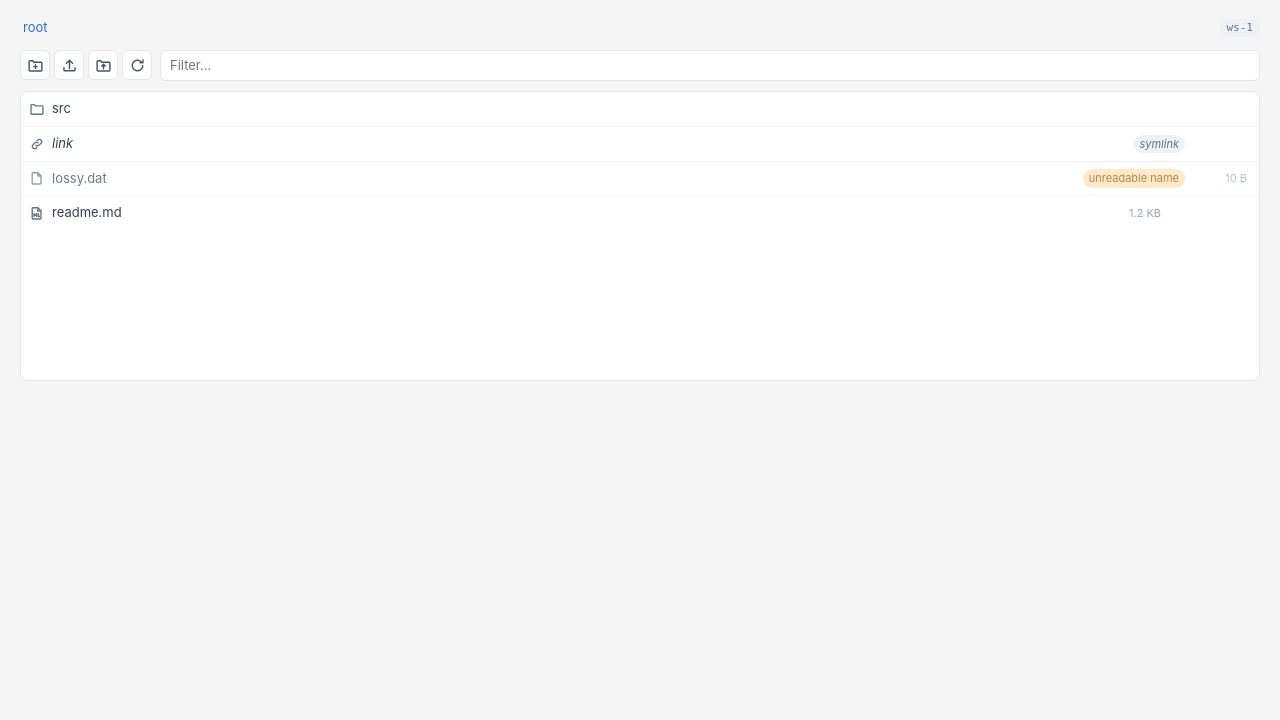
Test case: FileBrowser new folder › opens a name-entry dialog (focusing its input), marking the background inert
Click the button with test id "file-browser-new-folder": (35, 65) top-left (20, 50), bottom-right (50, 80)
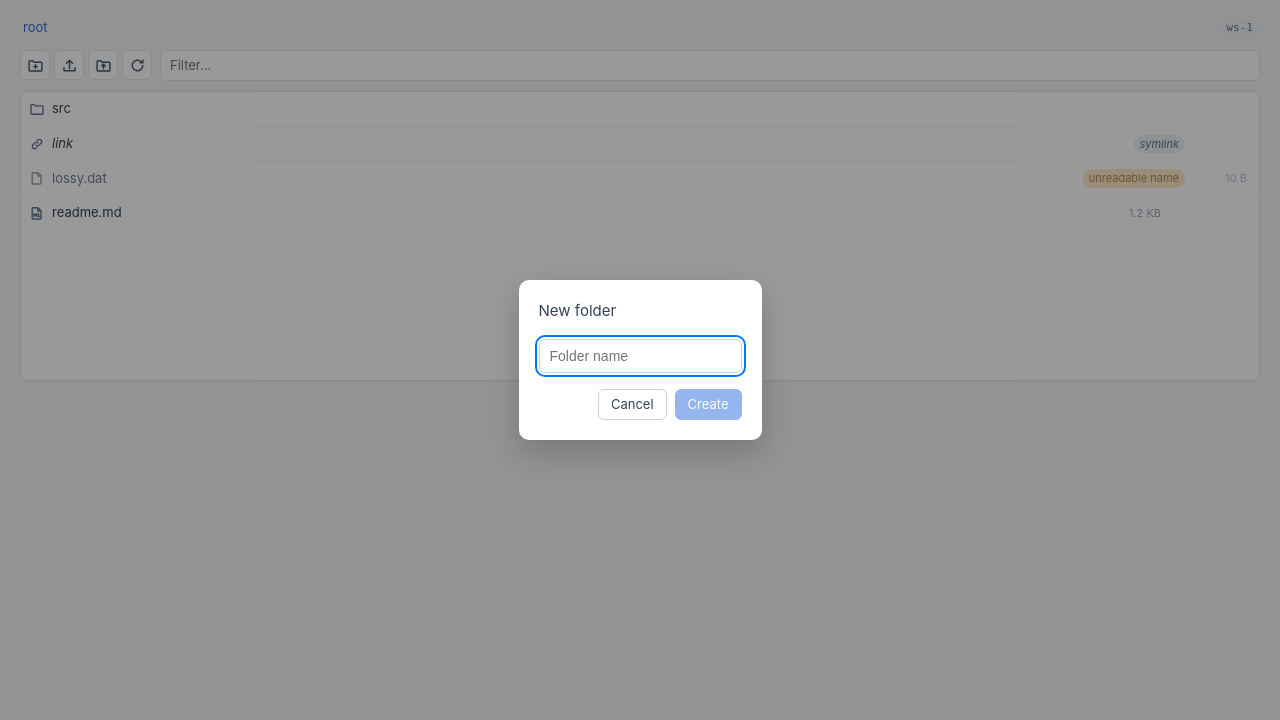
Now the element with test id "file-browser-new-folder-dialog" is shown
